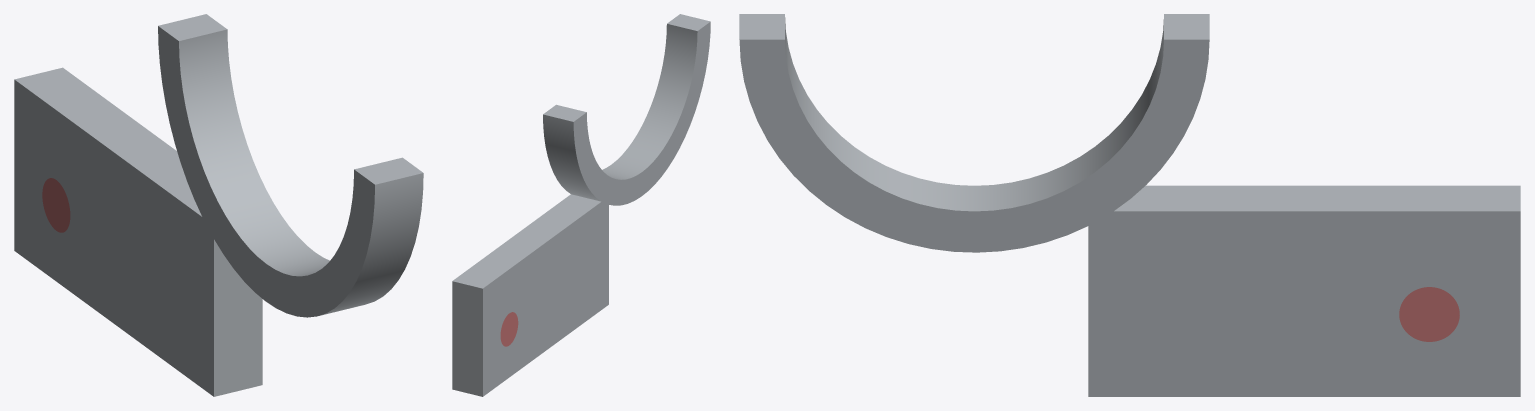
The model's file is step_03.glb.
3 views of the same model, side by side, from view 1: azimuth 30°, elevation 25°; view 2: azimuth 150°, elevation 25°; view 3: azimuth 270°, elevation 25° (orthographic). The views are drawn at different scales.
Visible parts, largest first — view 1: part__recline lock bracket, removed__recline lock bracket; view 2: part__recline lock bracket, removed__recline lock bracket; view 3: part__recline lock bracket, removed__recline lock bracket.
Part boxes in pixels (x1,y1,x2,y2): part__recline lock bracket: (14, 14, 423, 396); removed__recline lock bracket: (42, 178, 70, 232); part__recline lock bracket: (452, 14, 710, 396); removed__recline lock bracket: (500, 312, 518, 346); part__recline lock bracket: (739, 14, 1520, 396); removed__recline lock bracket: (1399, 287, 1459, 341).
Bounding box in the file's own units: 8 × 52 × 103.
